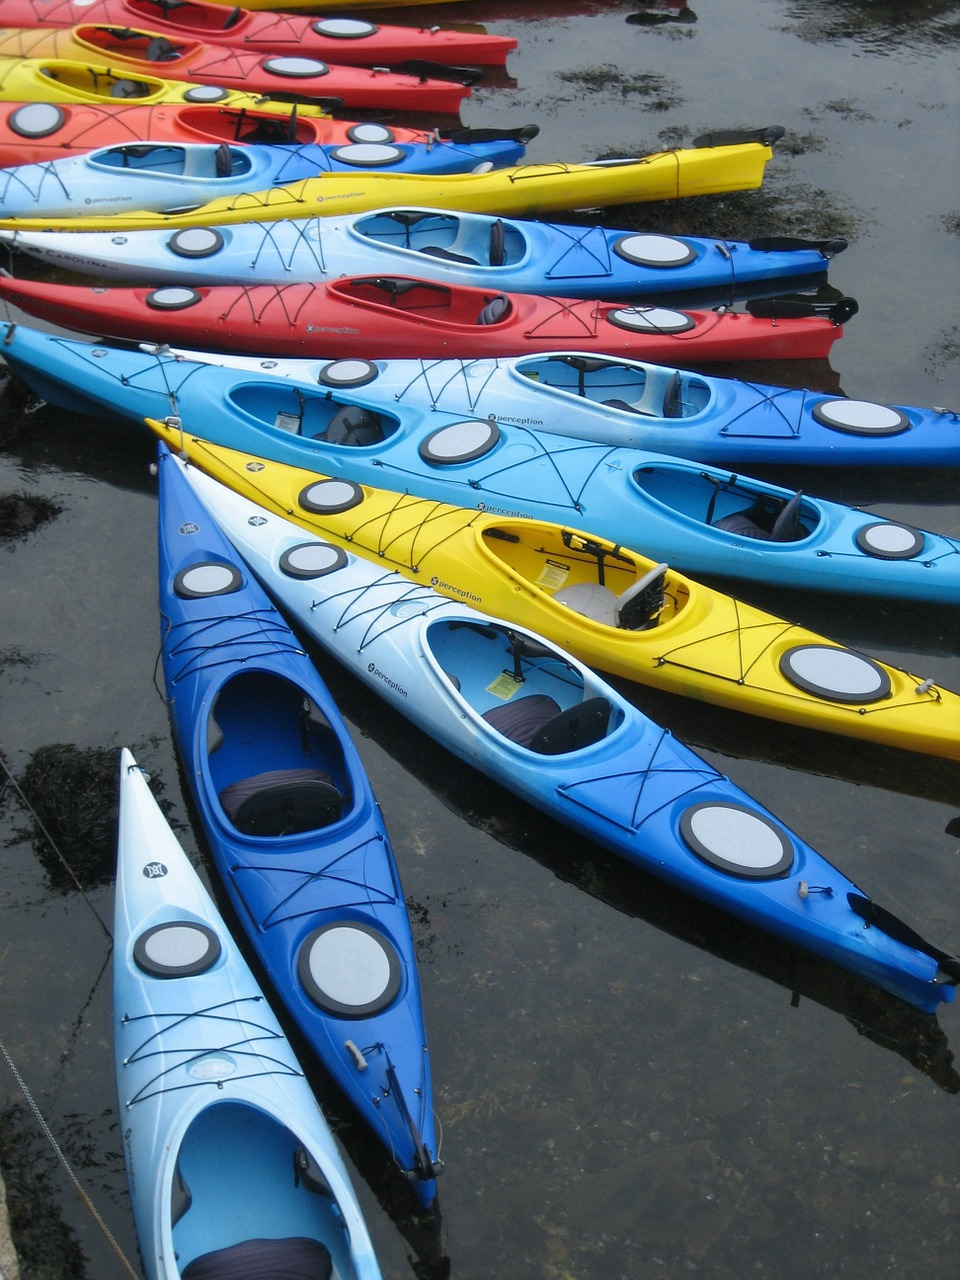kayak: (143, 411, 960, 768), (147, 431, 461, 1218), (1, 271, 861, 378), (1, 206, 861, 289)
